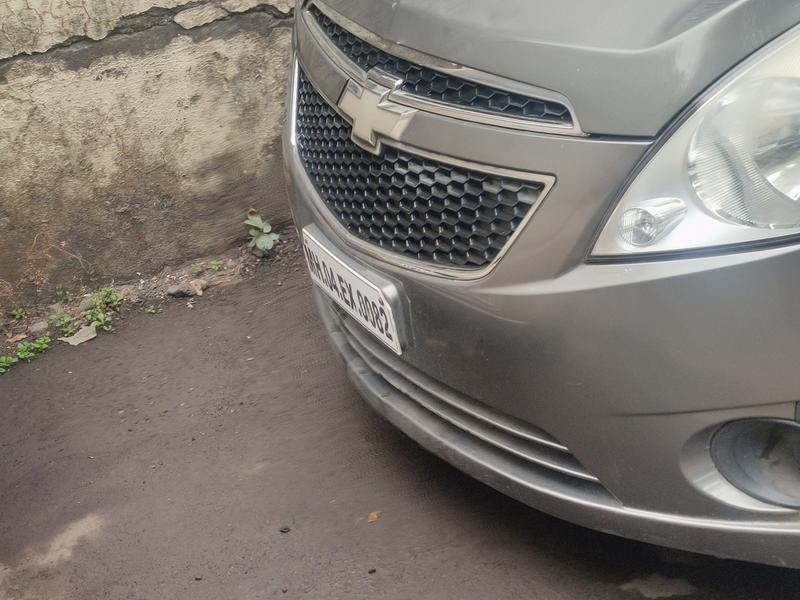license_plate: (293, 225, 405, 355)
